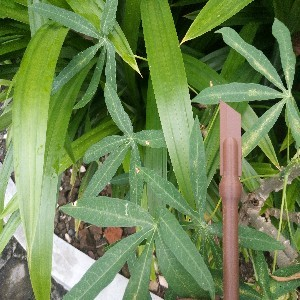cutter: (217, 97, 242, 300)
